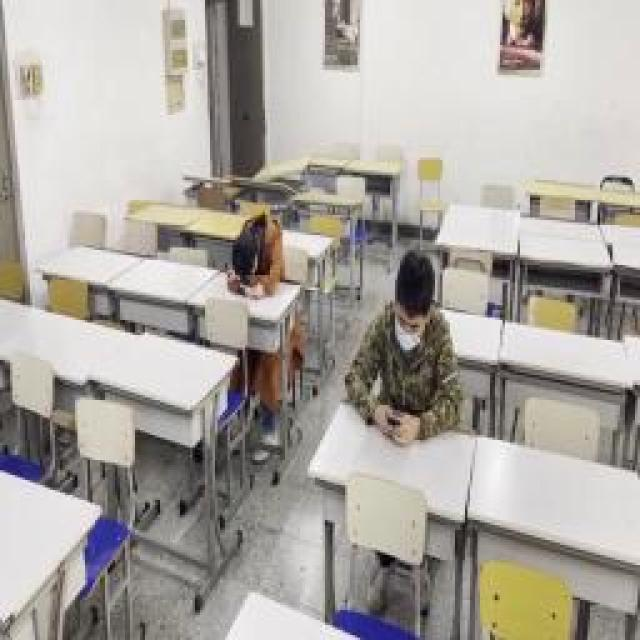phone: (345, 258, 460, 442)
sleep: (228, 213, 288, 295)
